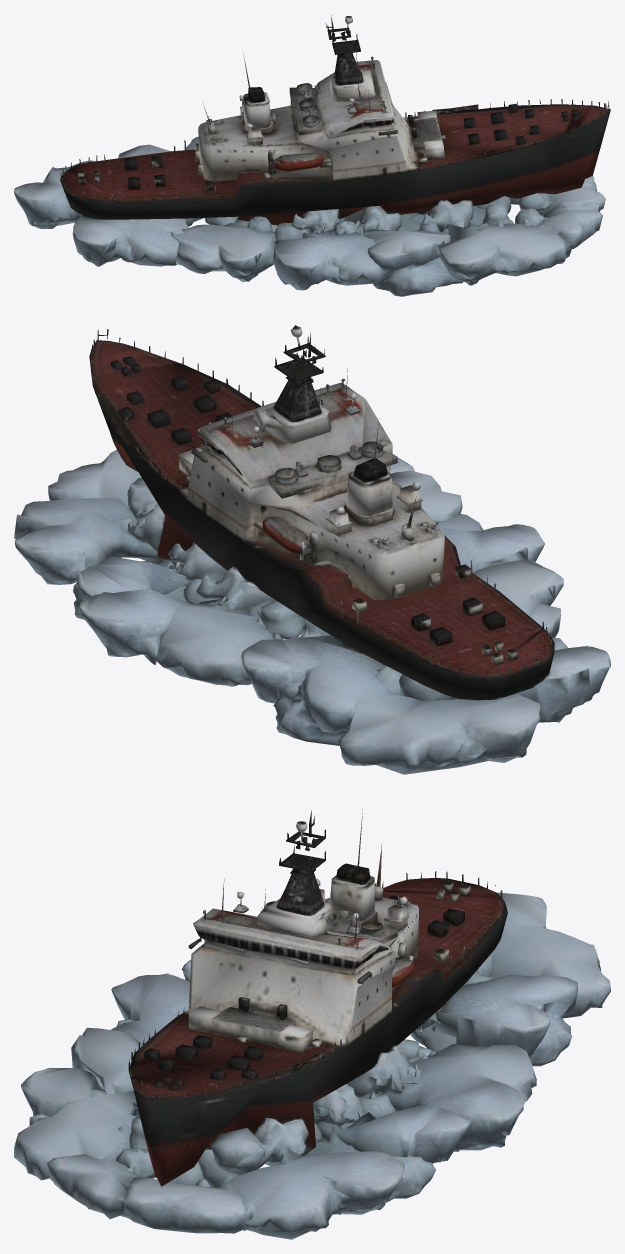
File: icebreakerShip.glb
3 renders of one model, top to bottom at view 1: azimuth 30°, elevation 25°; view 2: azimuth 150°, elevation 25°; view 3: azimuth 270°, elevation 25°, orthographic. The views are drawn at different scales.
Visible parts, largest first — view 1: tripo_node_4f912944-890f-43b6-8577-fed73b7836b7; view 2: tripo_node_4f912944-890f-43b6-8577-fed73b7836b7; view 3: tripo_node_4f912944-890f-43b6-8577-fed73b7836b7.
Boxes of the visible parts, x1,y1,x2,y2 form: tripo_node_4f912944-890f-43b6-8577-fed73b7836b7: (14,15,610,296); tripo_node_4f912944-890f-43b6-8577-fed73b7836b7: (14,325,610,774); tripo_node_4f912944-890f-43b6-8577-fed73b7836b7: (14,809,610,1239).
Size of the model in its own units: 0.998 by 0.4551 by 0.8144.
Materials: 1 (1 with a texture image).
